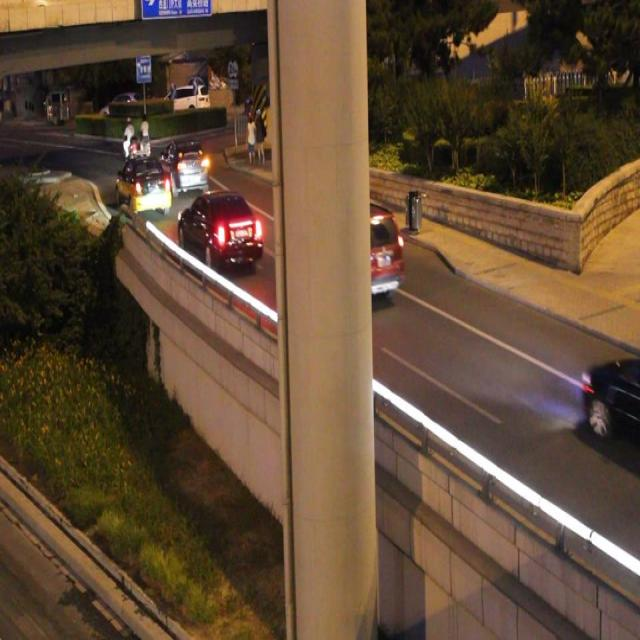car: (304, 200, 403, 302), (177, 189, 262, 271), (581, 340, 640, 448), (116, 151, 172, 214), (162, 138, 209, 191)
